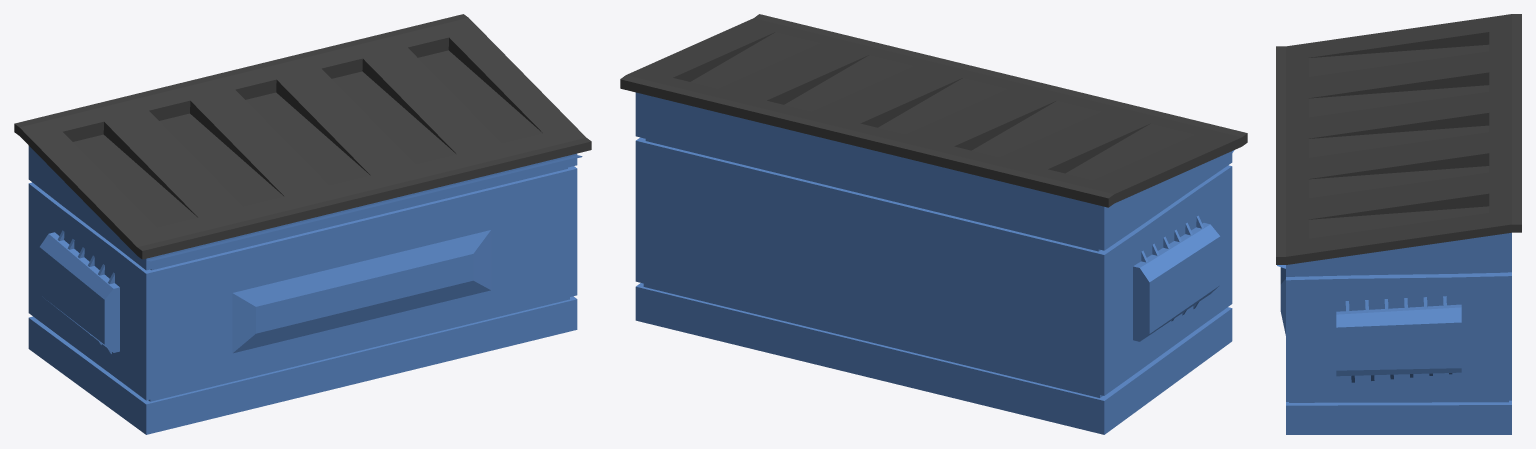
The model's file is garbageContainer.fbx.
3 renders of one model, left to right at view 1: azimuth 30°, elevation 25°; view 2: azimuth 150°, elevation 25°; view 3: azimuth 270°, elevation 25°, orthographic. The views are drawn at different scales.
Visible parts, largest first — view 1: Dumpster_Cube; view 2: Dumpster_Cube; view 3: Dumpster_Cube.
Part boxes in pixels (x1,y1,x2,y2): Dumpster_Cube: (14, 14, 591, 434); Dumpster_Cube: (620, 14, 1247, 434); Dumpster_Cube: (1276, 14, 1521, 434).
Size of the model in its own units: 410 by 190 by 197.
